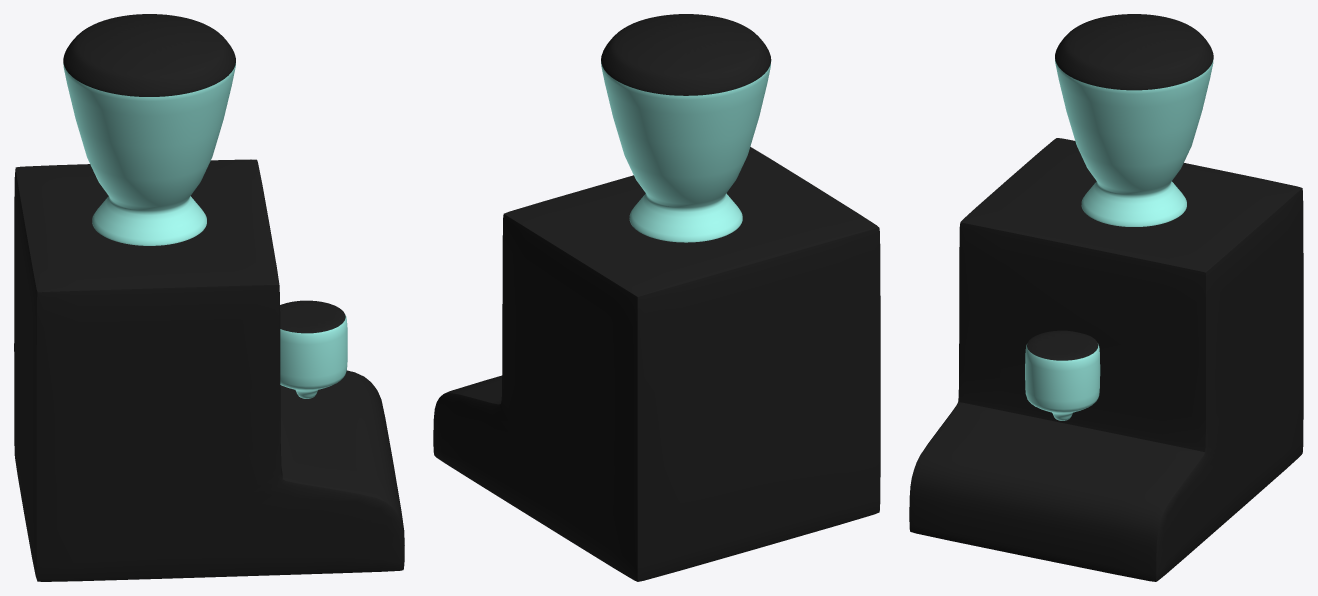
File: CofeeMaker.fbx
The picture shows the model from 3 angles, left to right: view 1: azimuth 30°, elevation 25°; view 2: azimuth 150°, elevation 25°; view 3: azimuth 270°, elevation 25°; orthographic projection. The views are drawn at different scales.
Visible parts, largest first — view 1: CofeeMaker; view 2: CofeeMaker; view 3: CofeeMaker.
Boxes of the visible parts, x1,y1,x2,y2 form: CofeeMaker: (14,14,404,581); CofeeMaker: (433,14,880,581); CofeeMaker: (909,14,1303,581).
Size of the model in its own units: 144 by 165 by 134.
